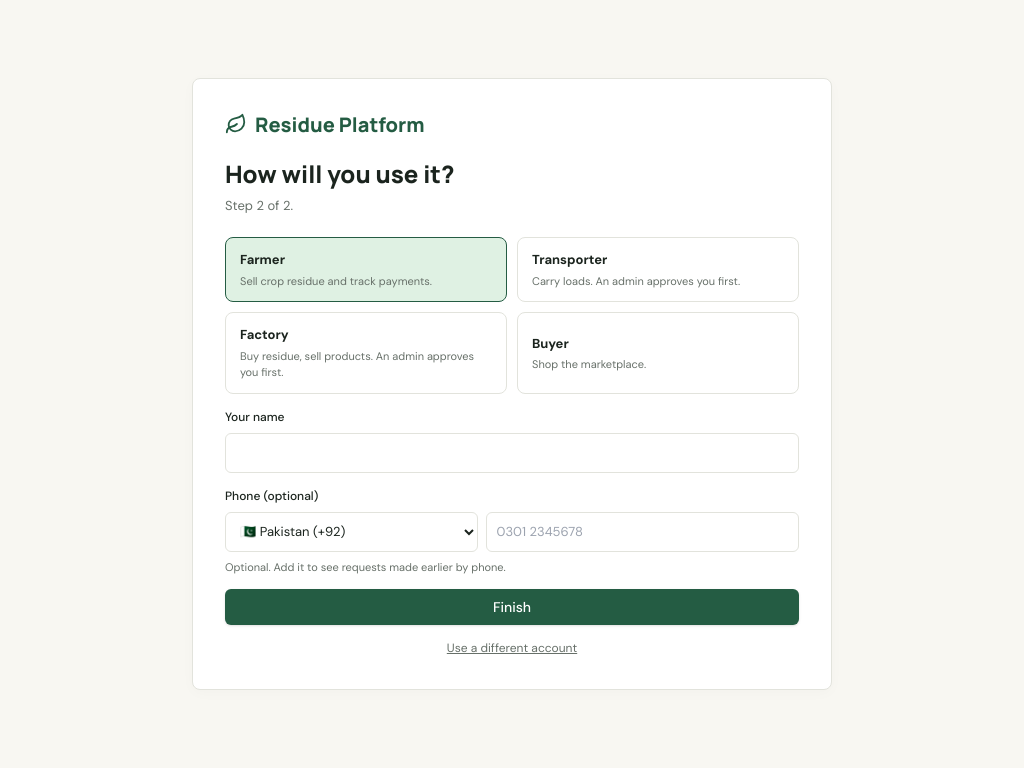
Test: role step › an out-of-range price is explained
Click the radio button labelled "Factory".
click(366, 353)  # box [225,312,507,394]
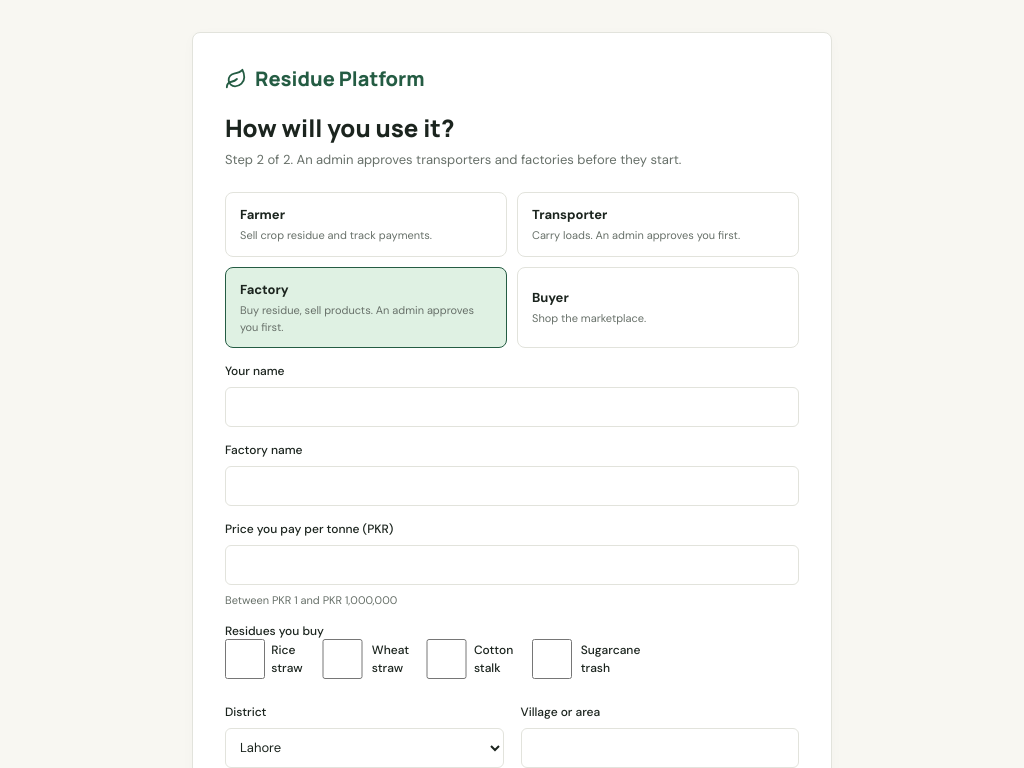
Type "5000000" into the number field labelled "Price you pay per tonne (PKR)".
click(512, 565); type("5000000")  # box [225,545,799,585]
(page scrolled)
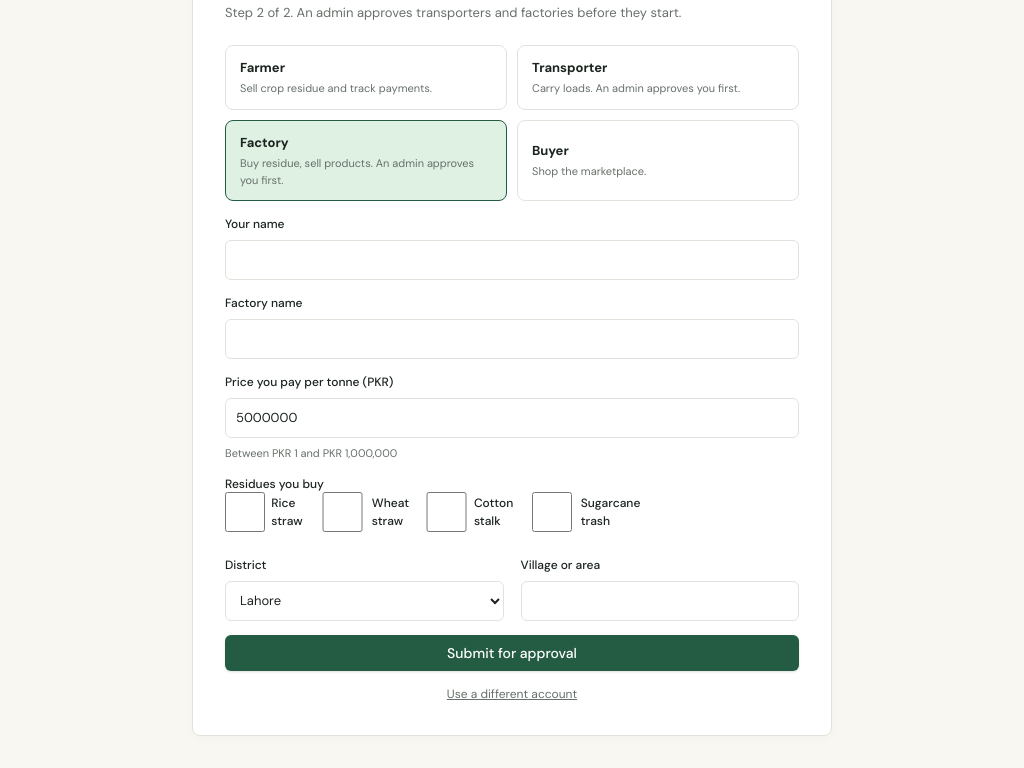
Click the button "Submit for approval".
click(512, 652)  # box [225,634,799,670]
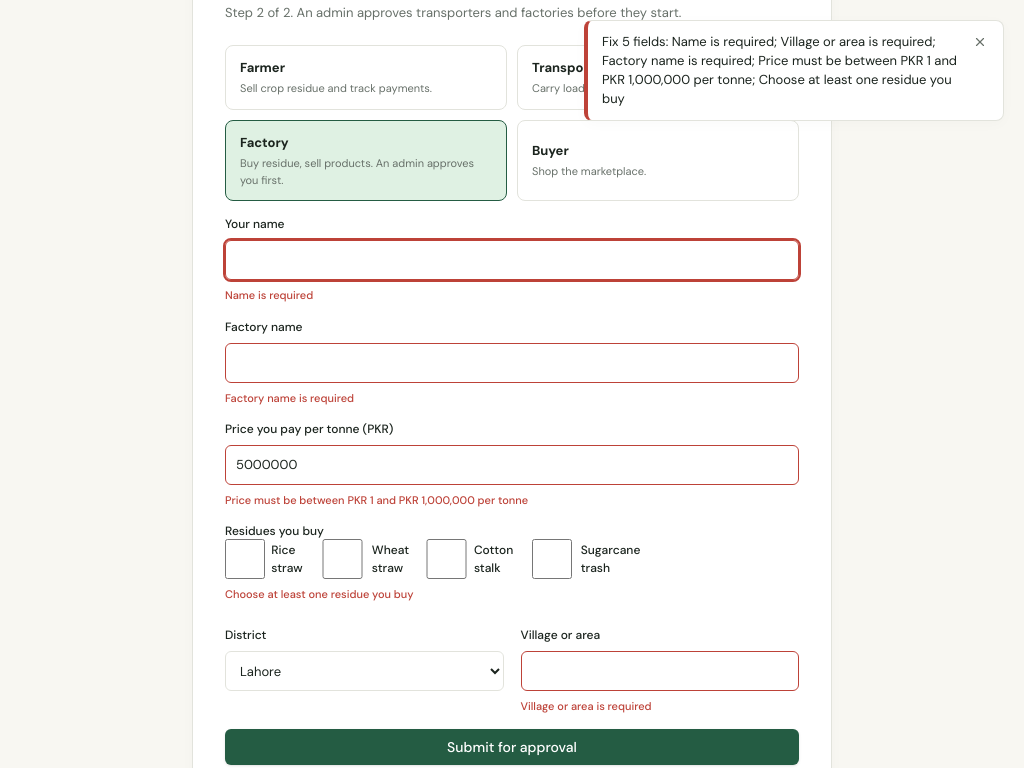
Expected: the text "Price must be between PKR 1 and PKR 1,000,000 per tonne" is shown, [225,493,528,507]
